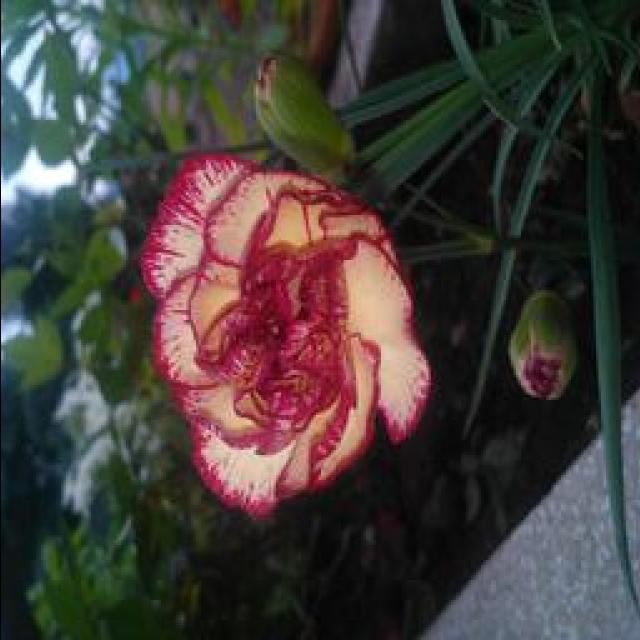carnation: (132, 138, 438, 526)
